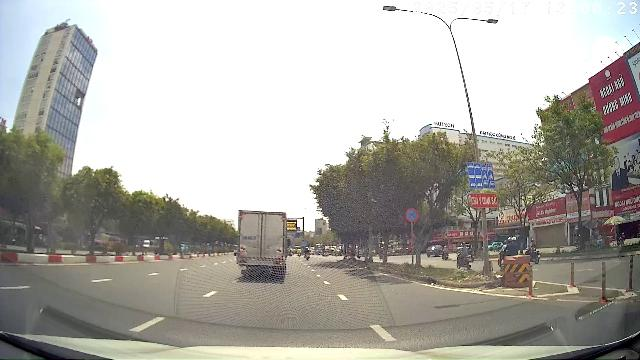130-cam-dung-va-do-xe: (405, 207, 419, 222)
